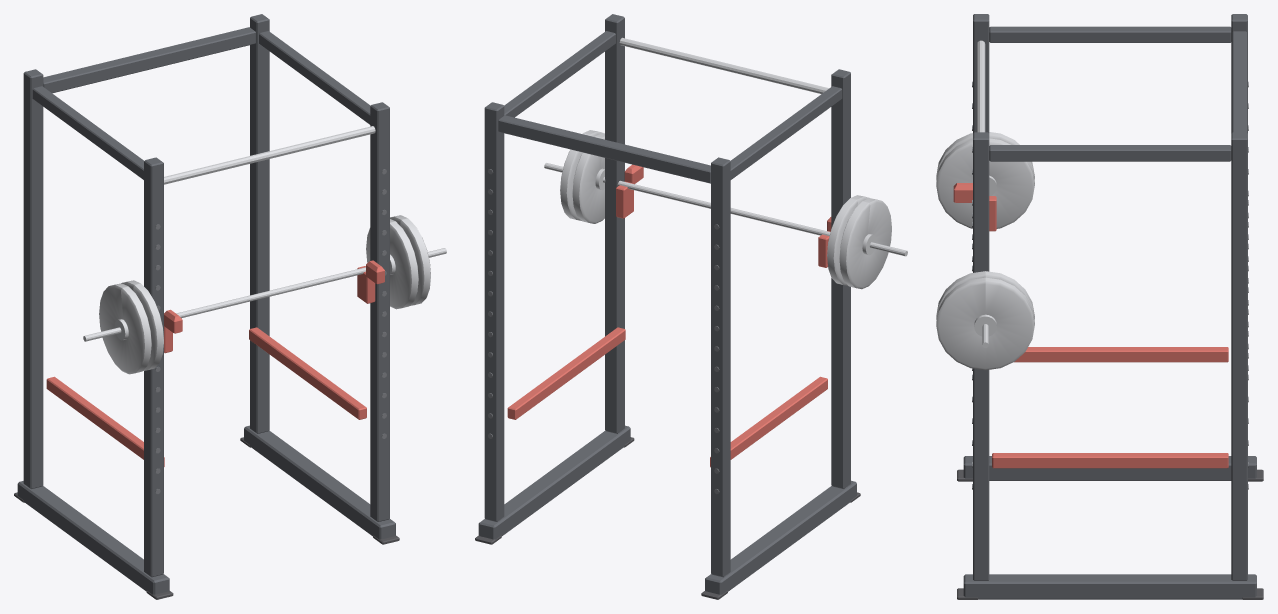
File: power_rack.glb
The picture shows the model from 3 angles, left to right: view 1: azimuth 30°, elevation 25°; view 2: azimuth 150°, elevation 25°; view 3: azimuth 270°, elevation 25°; orthographic projection. The views are drawn at different scales.
Parts seen in each view (by area): view 1: power-rack; view 2: power-rack; view 3: power-rack.
Part boxes in pixels (<box>): power-rack: <box>14,14,446,599</box>; power-rack: <box>475,14,907,599</box>; power-rack: <box>936,14,1263,599</box>.
Size of the model in its own units: 2.04 by 2.32 by 1.49.
